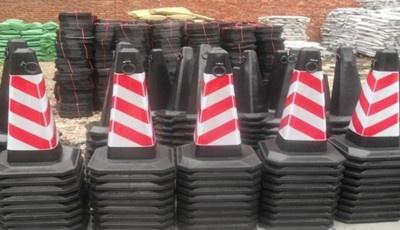cone_barrel: (186, 46, 254, 172), (95, 43, 163, 166), (268, 48, 335, 155), (346, 48, 399, 147)
